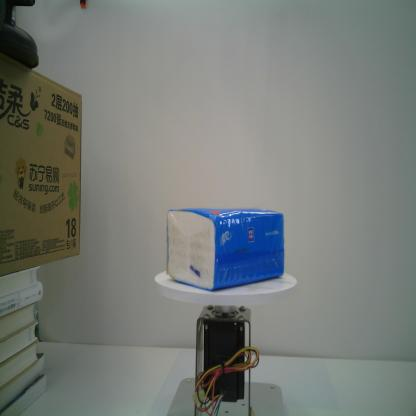Tissue: (166, 207, 284, 290)
